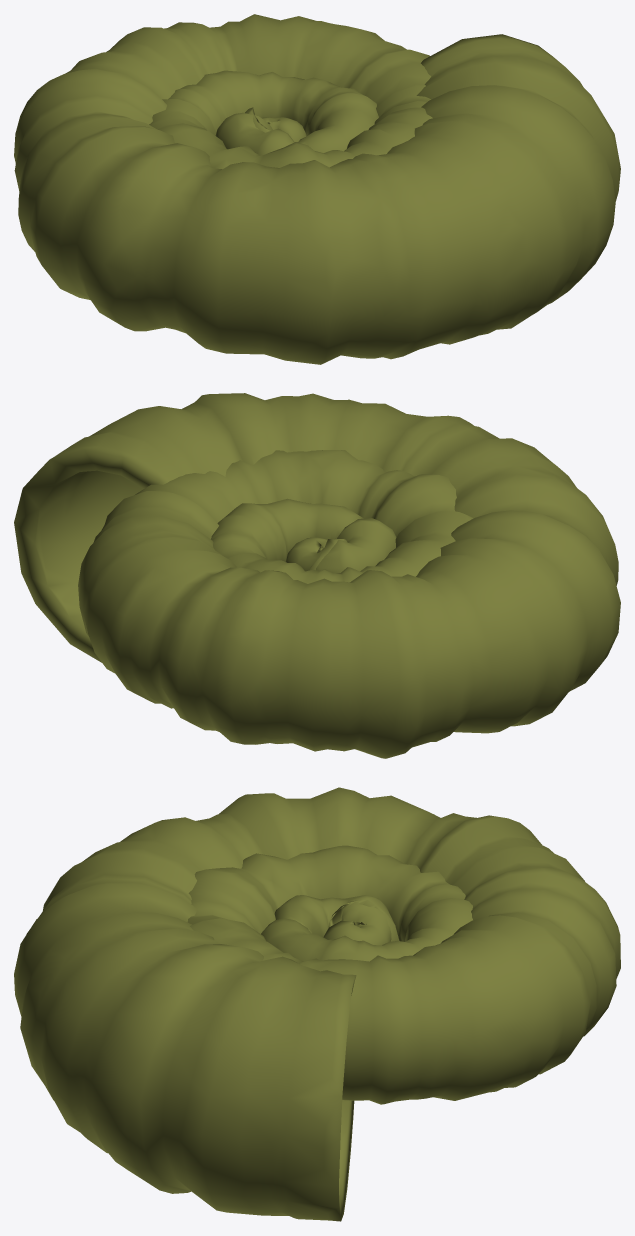
Rendered from seashell5.fbx.
3 views of the same model, one above another, from view 1: azimuth 30°, elevation 25°; view 2: azimuth 150°, elevation 25°; view 3: azimuth 270°, elevation 25° (orthographic). The views are drawn at different scales.
Visible parts, largest first — view 1: Cube.001; view 2: Cube.001; view 3: Cube.001.
Part boxes in pixels (bbox=[...]): Cube.001: bbox=[14, 14, 620, 364]; Cube.001: bbox=[14, 393, 620, 758]; Cube.001: bbox=[14, 787, 620, 1221].
Size of the model in its own units: 276 by 108 by 249.
